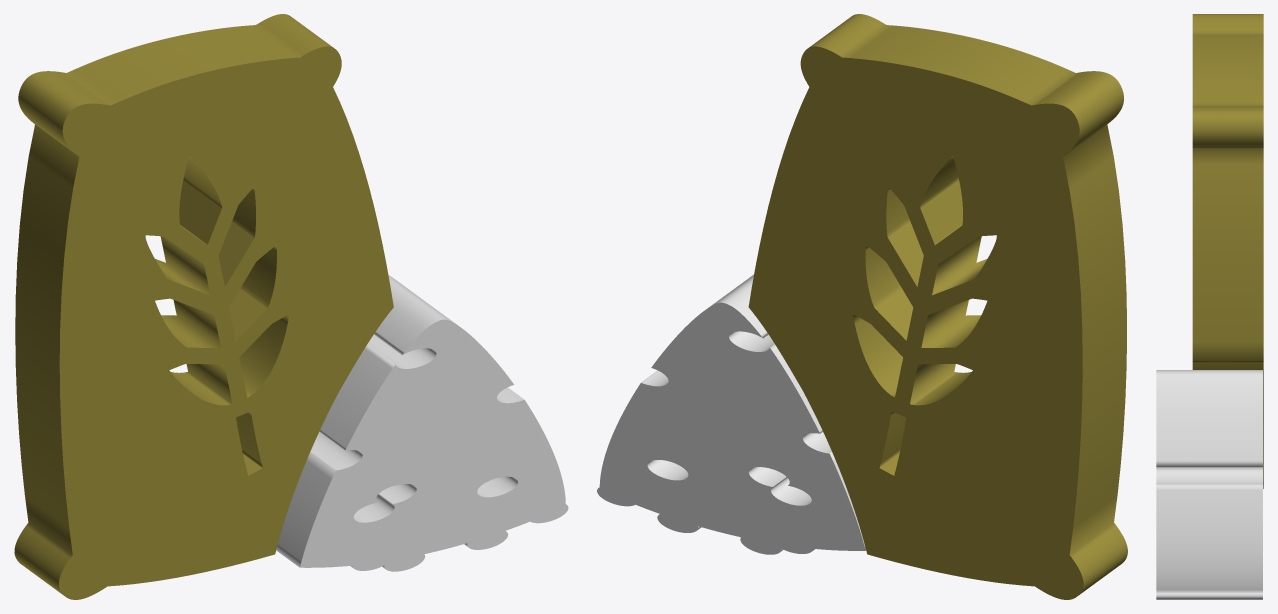
File: Rations.fbx
The picture shows the model from 3 angles, left to right: view 1: azimuth 30°, elevation 25°; view 2: azimuth 150°, elevation 25°; view 3: azimuth 270°, elevation 25°; orthographic projection. The views are drawn at different scales.
Parts seen in each view (by area): view 1: Bag, Grain1; view 2: Bag, Grain1; view 3: Bag, Grain1.
Part boxes in pixels (box(x1,y1,x2,y2)): Bag: box(14, 14, 393, 599); Grain1: box(276, 275, 568, 571); Bag: box(748, 14, 1127, 599); Grain1: box(597, 274, 865, 554); Bag: box(1192, 14, 1263, 488); Grain1: box(1156, 370, 1262, 599).
Bounding box in the file's own units: 253 × 261 × 60.41.
